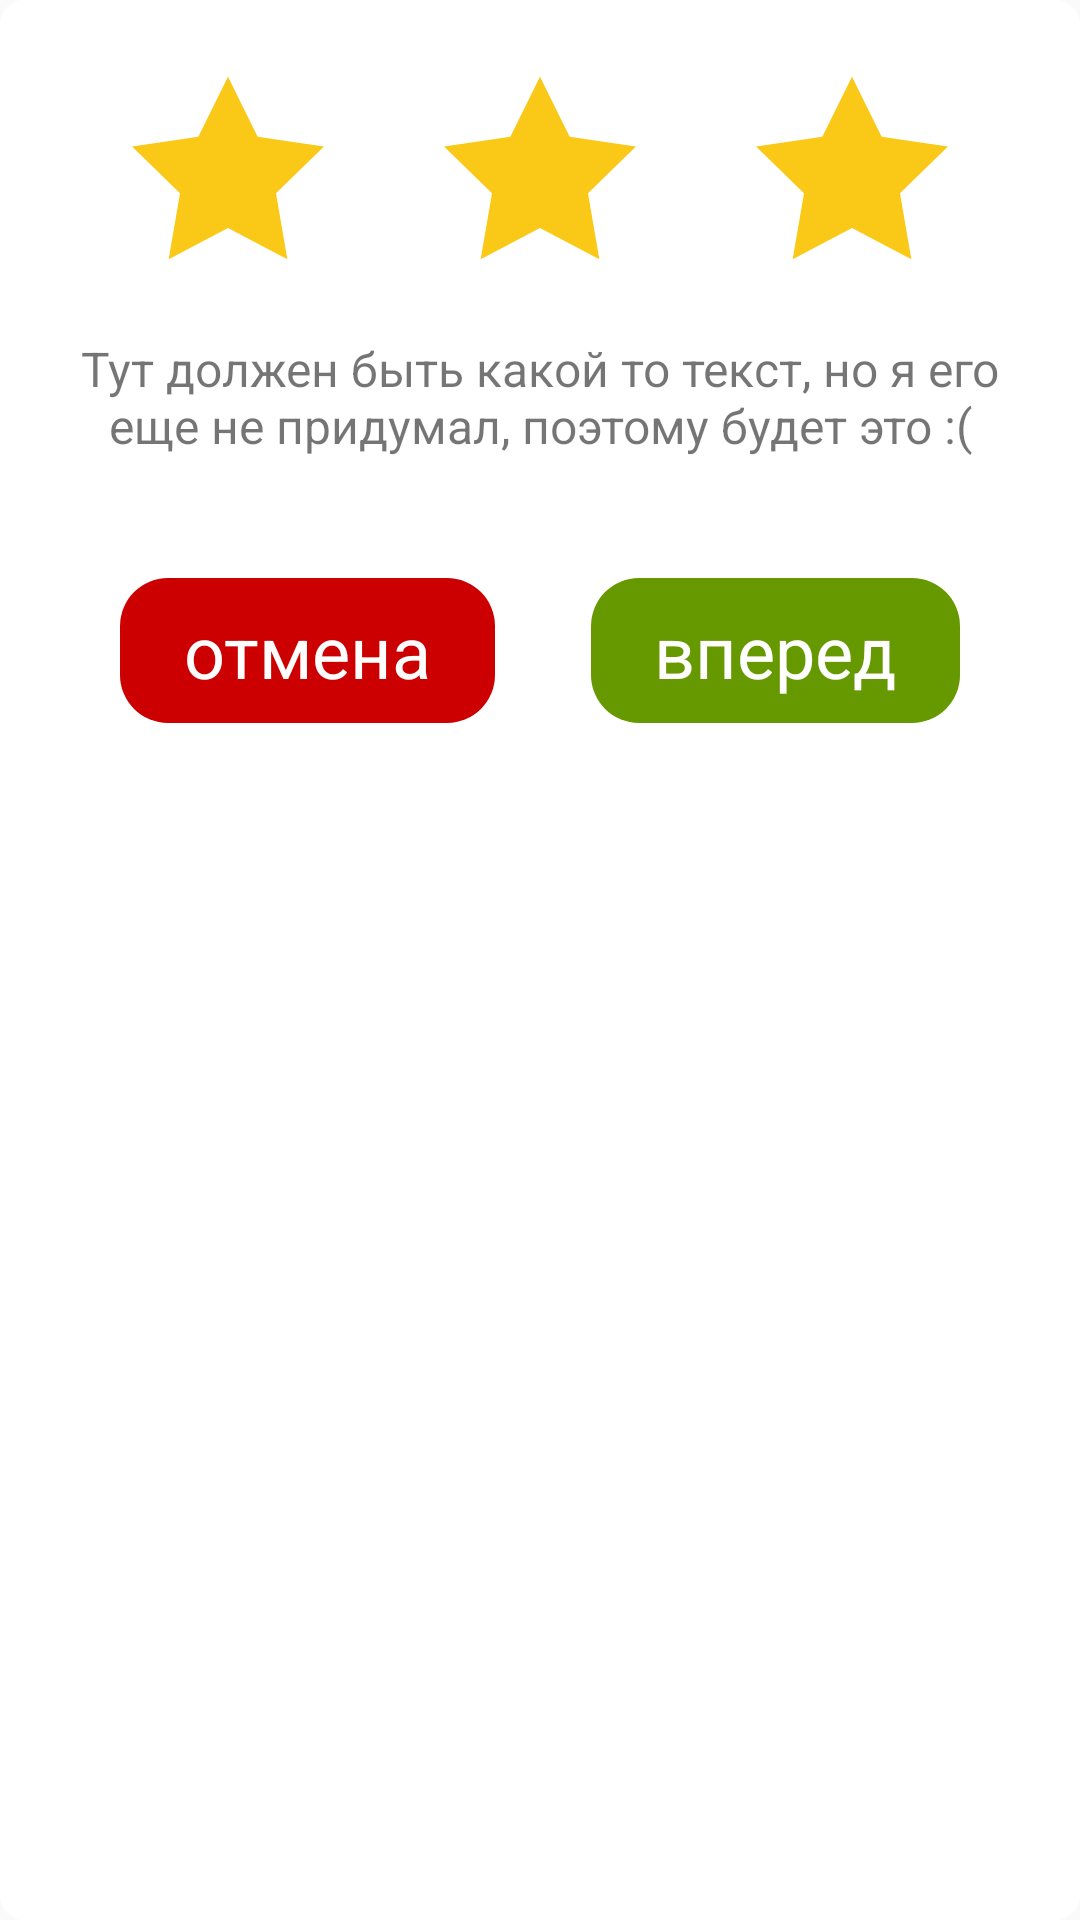

Screen size 1080 × 1920. Icon name, then its box in pixels as (x1, y1, x2, y2):
star: (132, 77, 324, 259), (444, 77, 636, 259), (756, 77, 948, 259)
